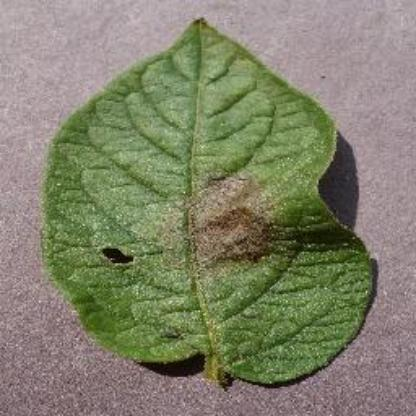Late-Blight: (41, 13, 378, 390)
